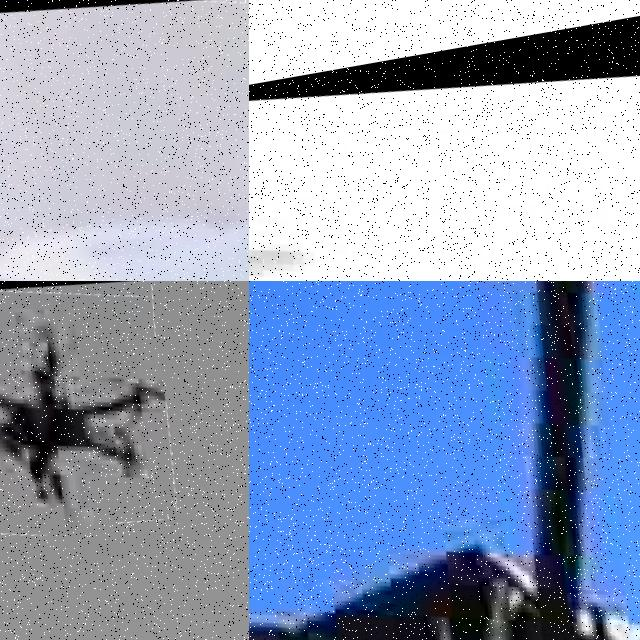0: (249, 281, 640, 640), (0, 281, 185, 549)
drone: (249, 0, 640, 281), (0, 0, 249, 281)
